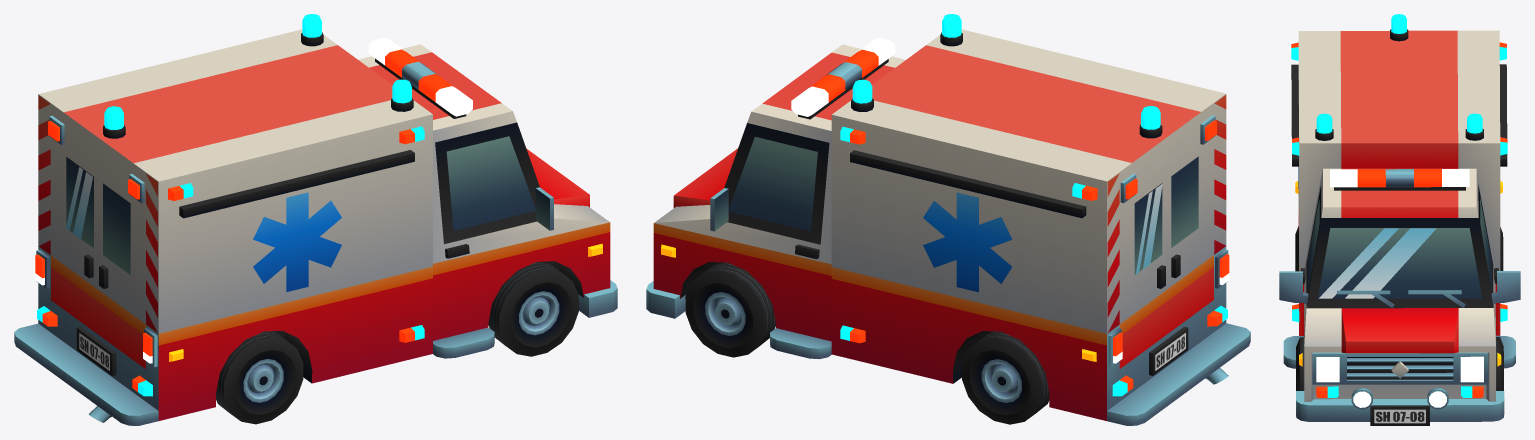
The picture shows the model from 3 angles, left to right: view 1: azimuth 30°, elevation 25°; view 2: azimuth 150°, elevation 25°; view 3: azimuth 270°, elevation 25°; orthographic projection. The views are drawn at different scales.
Visible parts, largest first — view 1: SHTV_Model_Car_Ambulance; view 2: SHTV_Model_Car_Ambulance; view 3: SHTV_Model_Car_Ambulance.
Boxes of the visible parts, x1=… form: SHTV_Model_Car_Ambulance: x1=14, y1=14, x2=617, y2=425; SHTV_Model_Car_Ambulance: x1=646, y1=14, x2=1250, y2=425; SHTV_Model_Car_Ambulance: x1=1279, y1=14, x2=1520, y2=425.
Size of the model in its own units: 1.86 by 1.03 by 0.9139.
Materials: 2 (2 with a texture image).
